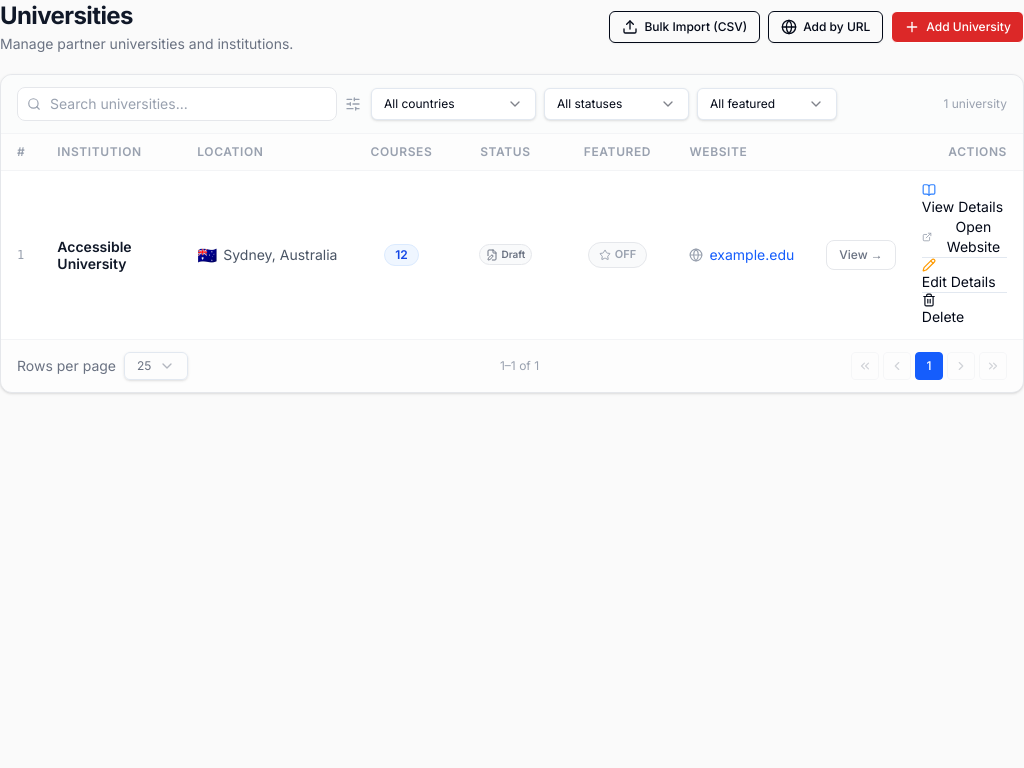
Test: Universities dialogs › opens the edit dialog
Click the menu item "Edit Details". click: (959, 275)
box: [922,258,996,292]
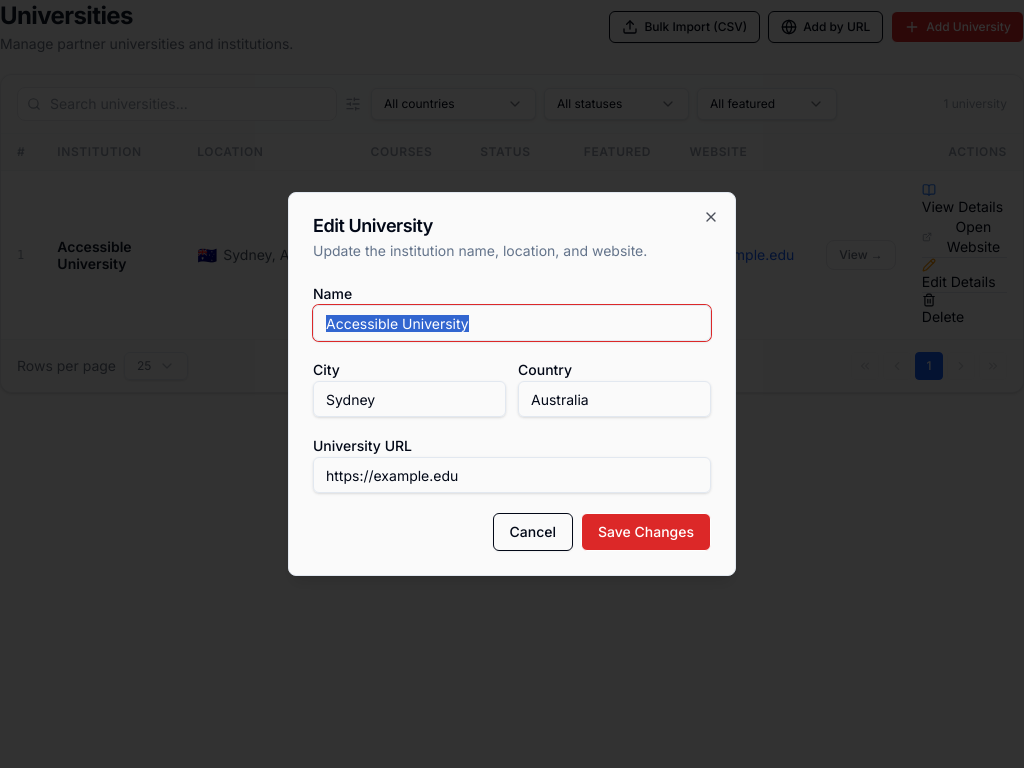
Check: the dialog "Edit University" is shown, box [288,192,736,576]
